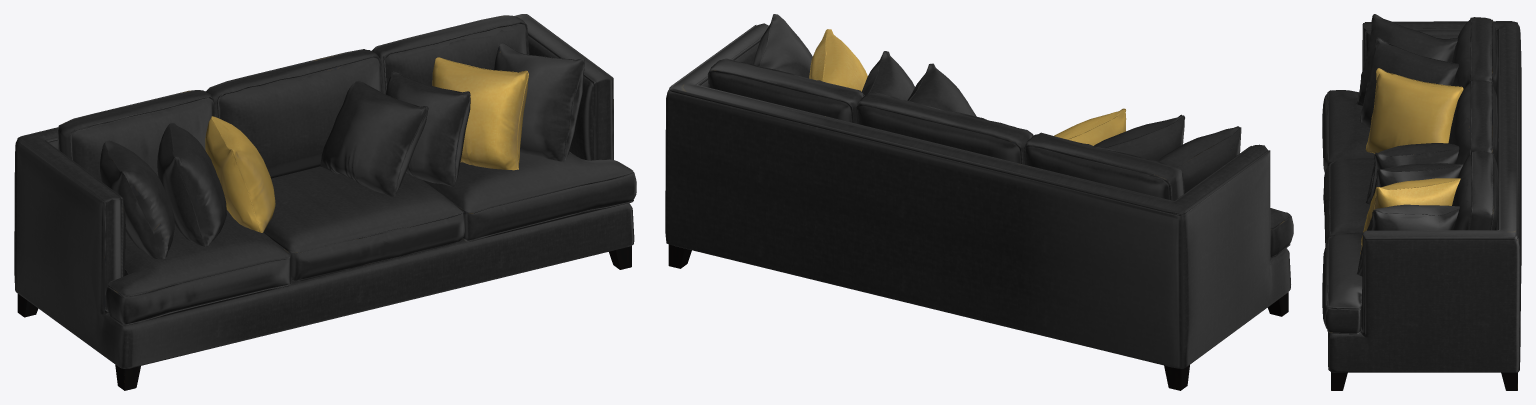
Rendered from raw_model.obj.
3 renders of one model, left to right at view 1: azimuth 30°, elevation 25°; view 2: azimuth 150°, elevation 25°; view 3: azimuth 270°, elevation 25°, orthographic. The views are drawn at different scales.
Parts seen in each view (by area): view 1: solid_001, solid_002, solid_003; view 2: solid_001, solid_002, solid_003; view 3: solid_001, solid_002, solid_003.
Boxes of the visible parts, x1=… form: solid_001: x1=14, y1=14, x2=636, y2=368; solid_002: x1=205, y1=57, x2=528, y2=232; solid_003: x1=17, y1=246, x2=631, y2=390; solid_001: x1=665, y1=14, x2=1293, y2=368; solid_002: x1=809, y1=29, x2=1126, y2=145; solid_003: x1=668, y1=244, x2=1288, y2=390; solid_001: x1=1322, y1=14, x2=1521, y2=372; solid_002: x1=1360, y1=68, x2=1463, y2=254; solid_003: x1=1331, y1=372, x2=1517, y2=390.
Bounding box in the file's own units: 2.65 × 0.9604 × 1.01.
Materials: 1 (1 with a texture image).
